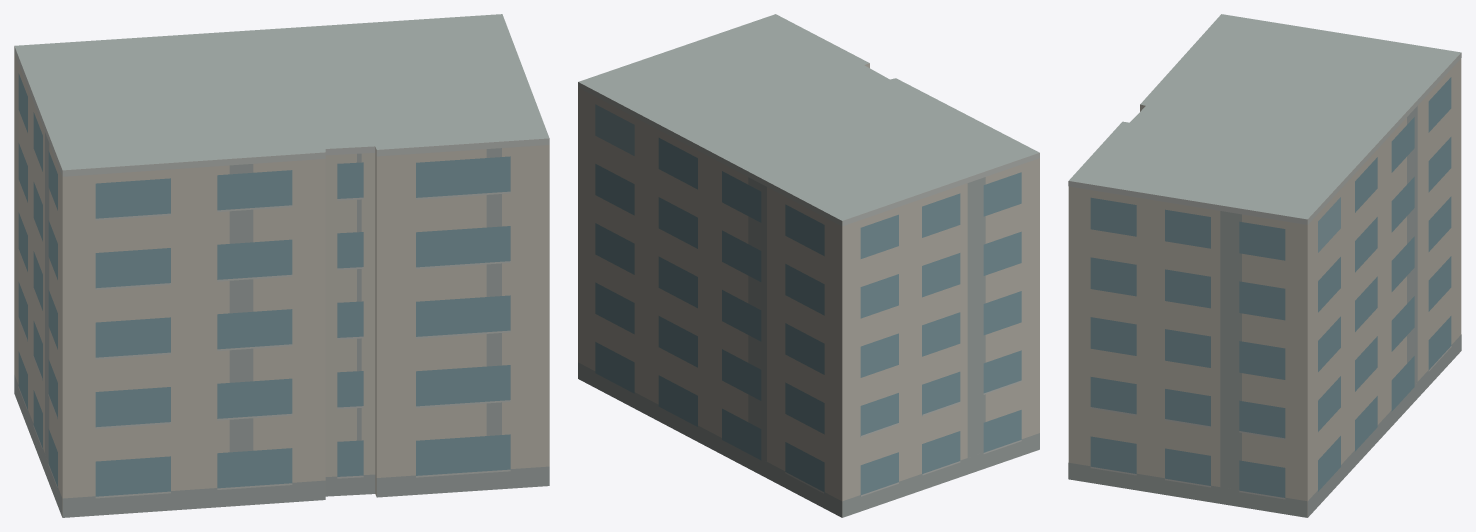
File: survey-upis-32524508.glb
3 views of the same model, side by side, from view 1: azimuth 30°, elevation 25°; view 2: azimuth 150°, elevation 25°; view 3: azimuth 270°, elevation 25° (orthographic). The views are drawn at different scales.
Parts seen in each view (by area): view 1: survey-upis-32524508.tmp; view 2: survey-upis-32524508.tmp; view 3: survey-upis-32524508.tmp.
Part boxes in pixels (left/top/right/bottom): survey-upis-32524508.tmp: left=14, top=14, right=549, bottom=517; survey-upis-32524508.tmp: left=578, top=14, right=1039, bottom=517; survey-upis-32524508.tmp: left=1068, top=14, right=1461, bottom=517.
Bounding box in the file's own units: 19.35 × 13.1 × 15.64.
